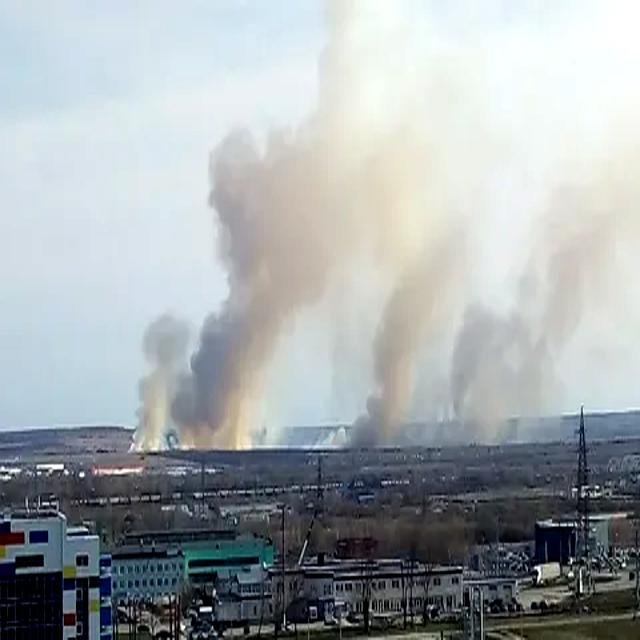no_helmet: (195, 22, 332, 444), (458, 217, 607, 445), (351, 240, 442, 445), (131, 312, 193, 445)
